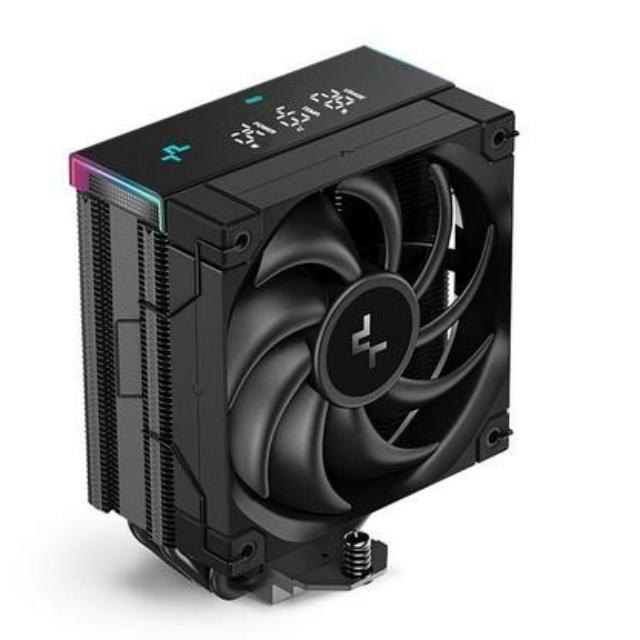CPU_Fan: (62, 51, 518, 609)
